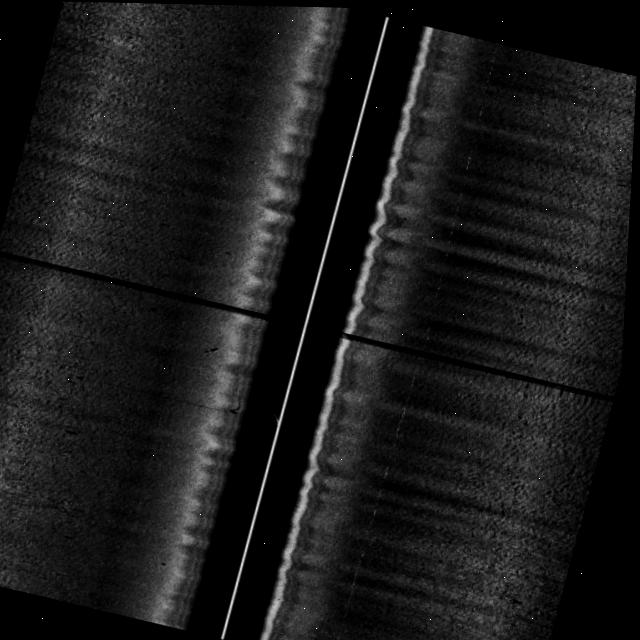mine: (210, 342, 226, 355)
